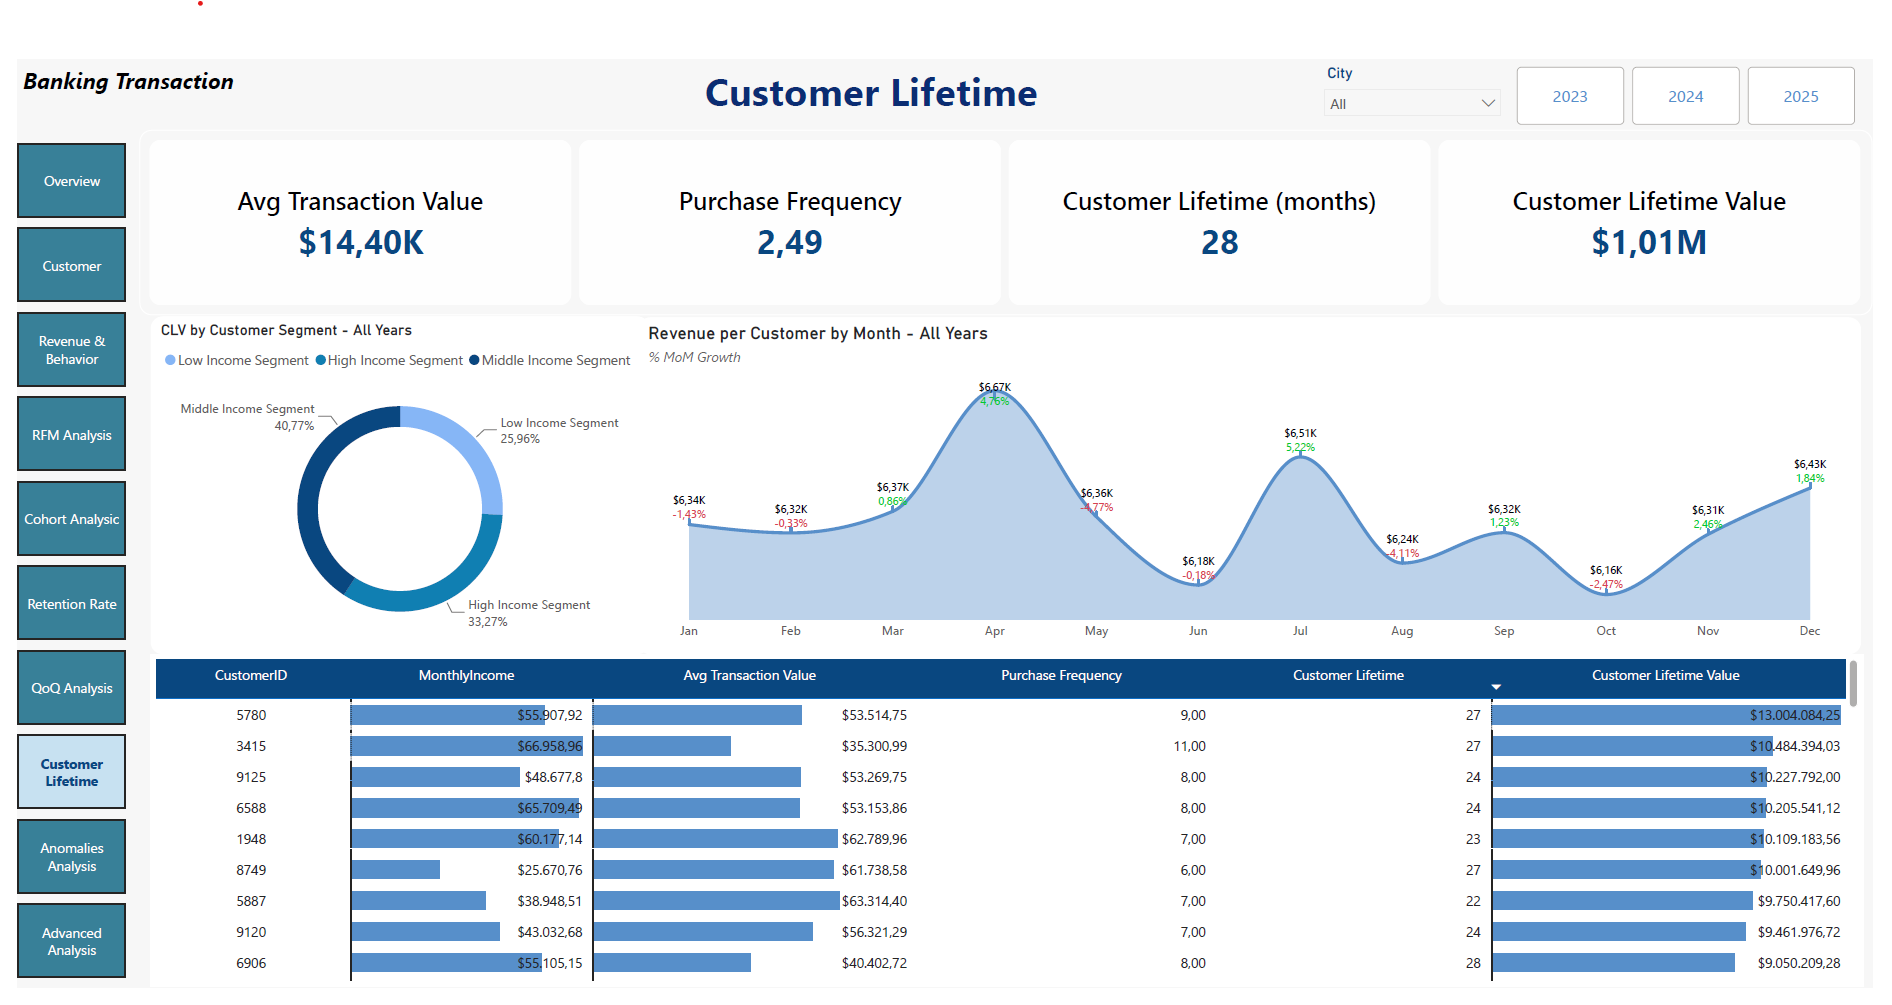

The dashboard page shown, as its layout file describes it:
{"tool":"powerbi","page":{"name":"Customer Lifetime","canvas":[1800,900],"ordinal":8},"visuals":[{"type":"cardVisual","fields":{"Data":["All Measures.Avg Transaction Value","All Measures.Purchase Frequency","All Measures.Customer Lifetime (months)","All Measures.Customer Lifetime Value CLV"]},"box":[118.3,68.3,1681.7,180],"z":0},{"type":"advancedSlicerVisual","fields":{"Values":["Dim_Date.Year"]},"box":[1450,1.7,338.3,66.7],"z":1000},{"type":"slicer","fields":{"Values":["Dim_Location.BranchCity"]},"box":[1258.3,0,191.7,66.7],"z":2000},{"type":"donutChart","fields":{"Y":["All Measures.Customer Lifetime Value CLV"],"Category":["Fact_Transaction.CustomerSegment"]},"box":[129.2,248.5,484,328.7],"z":3000},{"type":"lineChart","fields":{"Y":["All Measures.Revenue per Customer"],"Category":["Dim_Date.Month"]},"box":[601.7,250.2,1187.1,327],"z":4000},{"type":"tableEx","fields":{"Values":["Fact_Transaction.CustomerID","Sum(Fact_Transaction.MonthlyIncome_USD)","All Measures.Avg Transaction Value","All Measures.Purchase Frequency","All Measures.Customer Lifetime (months)","All Measures.Customer Lifetime Value CLV"]},"box":[129.2,577.2,1661.3,322.1],"z":5000},{"type":"textbox","box":[662.1,0,403.4,67.2],"z":7000},{"type":"textbox","box":[0,0,300,67.2],"z":8000},{"type":"pageNavigator","box":[0,81,105.2,819],"z":8001}]}

Visuals, with their boxes on the page's 1800x900 design canvas (x1, y1, x2, y2). These are canvas units, not pixel positions in the 1892x1005 screenshot, which may show the page scaled, cropped or inside an application window:
cardVisual - All Measures.Avg Transaction Value x All Measures.Purchase Frequency: [x1=118, y1=68, x2=1800, y2=248]
advancedSlicerVisual - Dim_Date.Year: [x1=1450, y1=2, x2=1788, y2=68]
slicer - Dim_Location.BranchCity: [x1=1258, y1=0, x2=1450, y2=67]
donutChart - All Measures.Customer Lifetime Value CLV x Fact_Transaction.CustomerSegment: [x1=129, y1=248, x2=613, y2=577]
lineChart - All Measures.Revenue per Customer x Dim_Date.Month: [x1=602, y1=250, x2=1789, y2=577]
tableEx - Fact_Transaction.CustomerID x Sum(Fact_Transaction.MonthlyIncome_USD): [x1=129, y1=577, x2=1790, y2=899]
textbox: [x1=662, y1=0, x2=1066, y2=67]
textbox: [x1=0, y1=0, x2=300, y2=67]
pageNavigator: [x1=0, y1=81, x2=105, y2=900]
